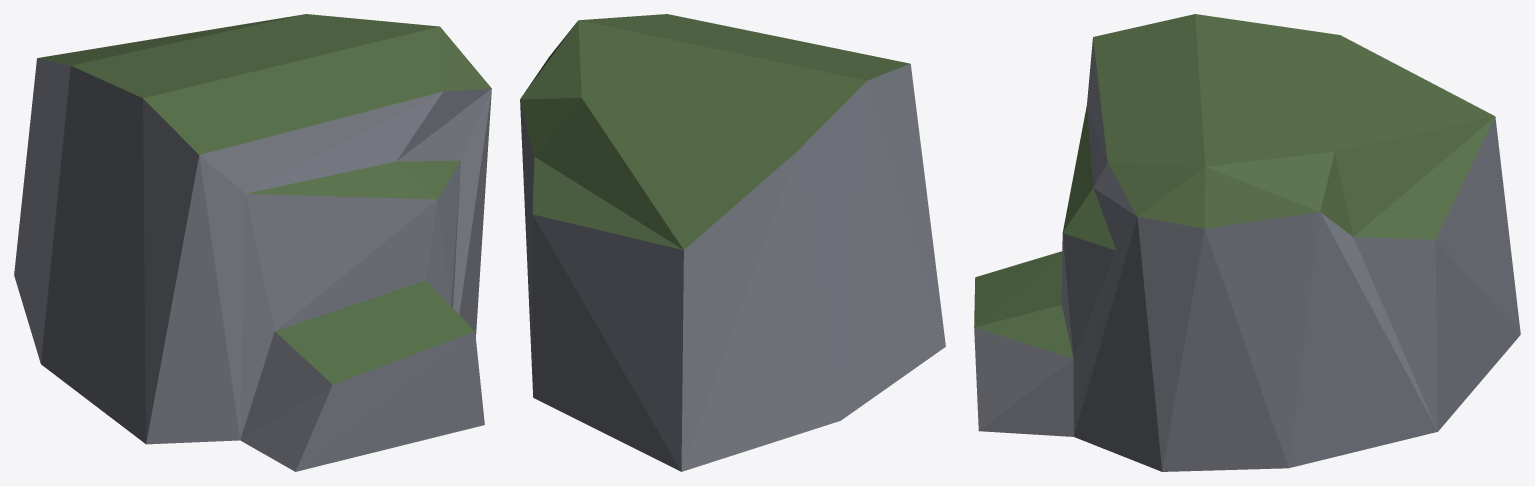
Rendered from Rock_Moss_6.lod1.glb.
3 renders of one model, left to right at view 1: azimuth 30°, elevation 25°; view 2: azimuth 150°, elevation 25°; view 3: azimuth 270°, elevation 25°, orthographic. The views are drawn at different scales.
Visible parts, largest first — view 1: Rock_Moss_6; view 2: Rock_Moss_6; view 3: Rock_Moss_6.
Part boxes in pixels (x1,y1,x2,y2): Rock_Moss_6: (14,14,491,471); Rock_Moss_6: (520,14,945,471); Rock_Moss_6: (974,14,1520,471).
Bounding box in the file's own units: 0.8913 × 0.6948 × 1.13.
